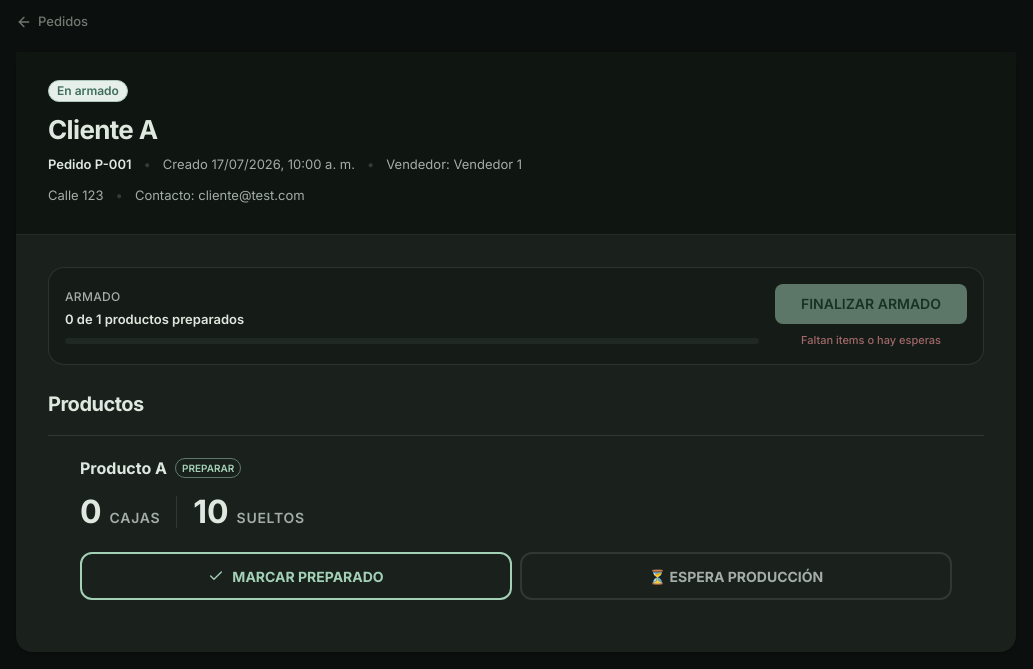
Scenario: PedidoDetailPage › DESIGN-01 — Armador: espera producción › toggling espera producción shows ESPERA PRODUCCIÓN badge and updates summary
Expected: the text "Pedido P-001" is shown, [48,154,132,174]
Click the button "⏳ ESPERA PRODUCCIÓN": (736, 576) [520,552,952,600]
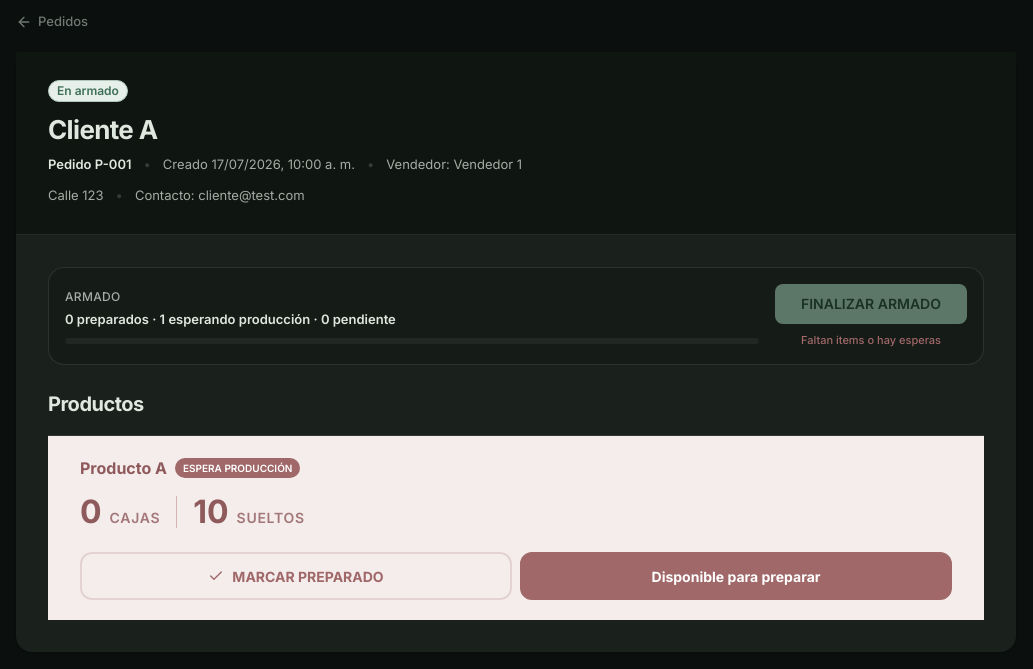
Result: the text "0 preparados · 1 esperando producción · 0 pendiente" is shown at [65,311,396,327]
